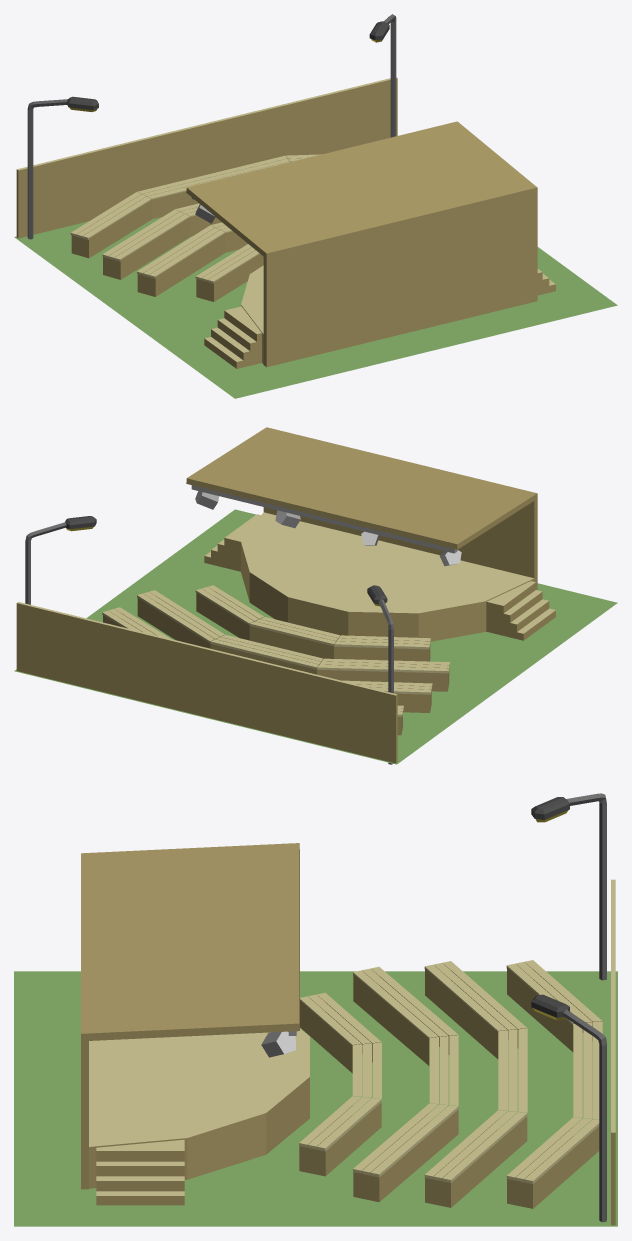
File: landscape_entertainment_004.fbx
3 views of the same model, one above another, from view 1: azimuth 30°, elevation 25°; view 2: azimuth 150°, elevation 25°; view 3: azimuth 270°, elevation 25° (orthographic). The views are drawn at different scales.
Visible parts, largest first — view 1: landscape_entertainment_004; view 2: landscape_entertainment_004; view 3: landscape_entertainment_004.
Boxes of the visible parts, left/top/right/bottom form: landscape_entertainment_004: left=14, top=14, right=617, bottom=398; landscape_entertainment_004: left=14, top=427, right=617, bottom=764; landscape_entertainment_004: left=14, top=793, right=617, bottom=1226.
Size of the model in its own units: 1600 by 602 by 1600.
